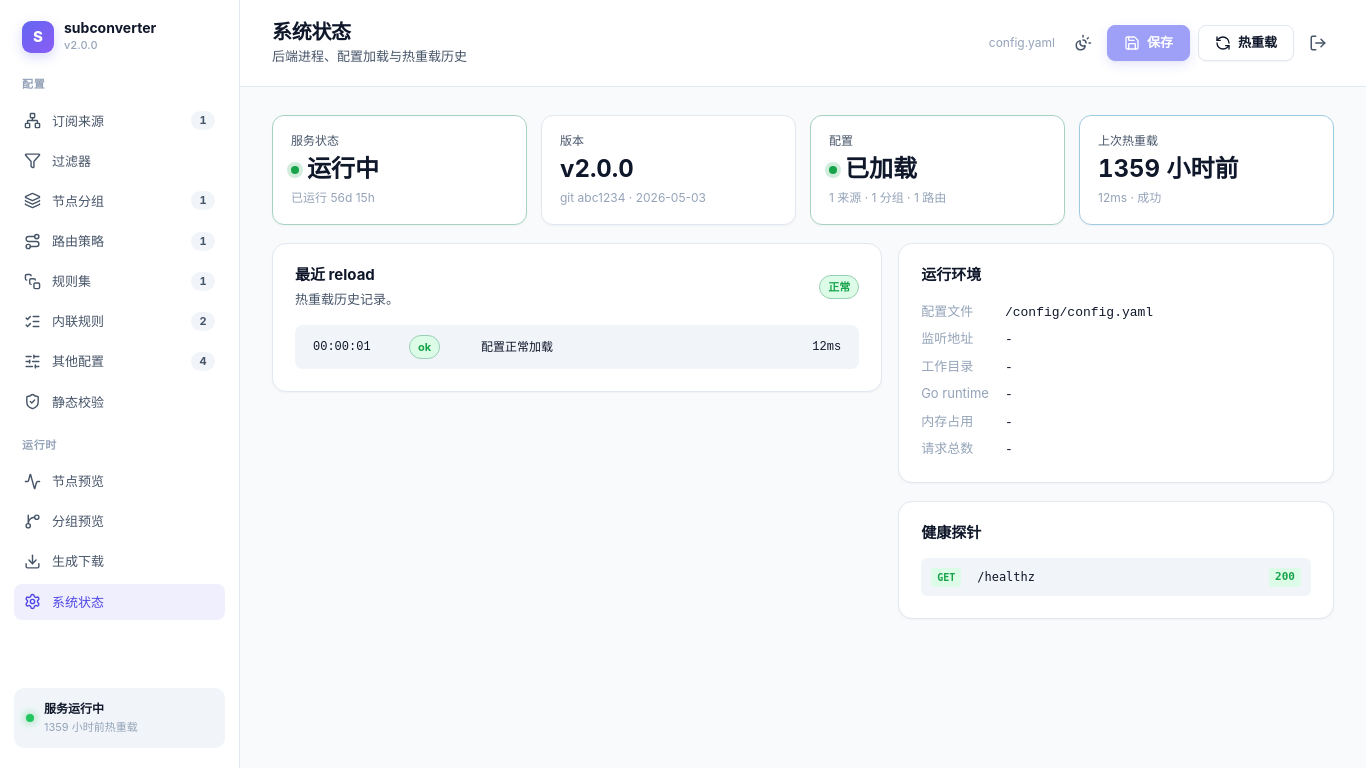
Test case: high fidelity interactions › shows a reload backoff hint on 429 and retries once
Expected: the heading "系统状态" is shown, 272,20 -> 351,44
Click the button "热重载". click: (1246, 43)
box: 1198,25 -> 1294,61
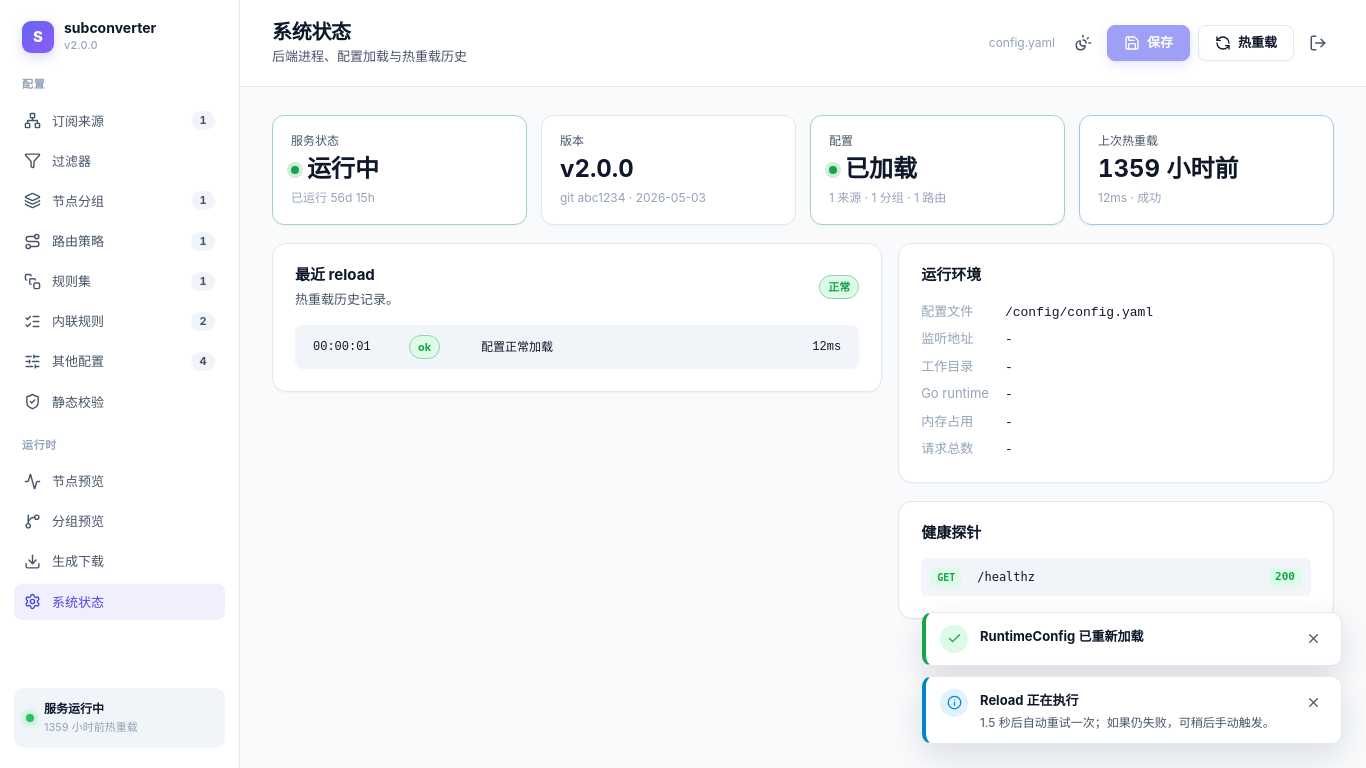
Now the text "Reload 正在执行" is shown, box 980,692 -> 1079,708
Now the text "RuntimeConfig 已重新加载" is shown, box 980,628 -> 1143,644
